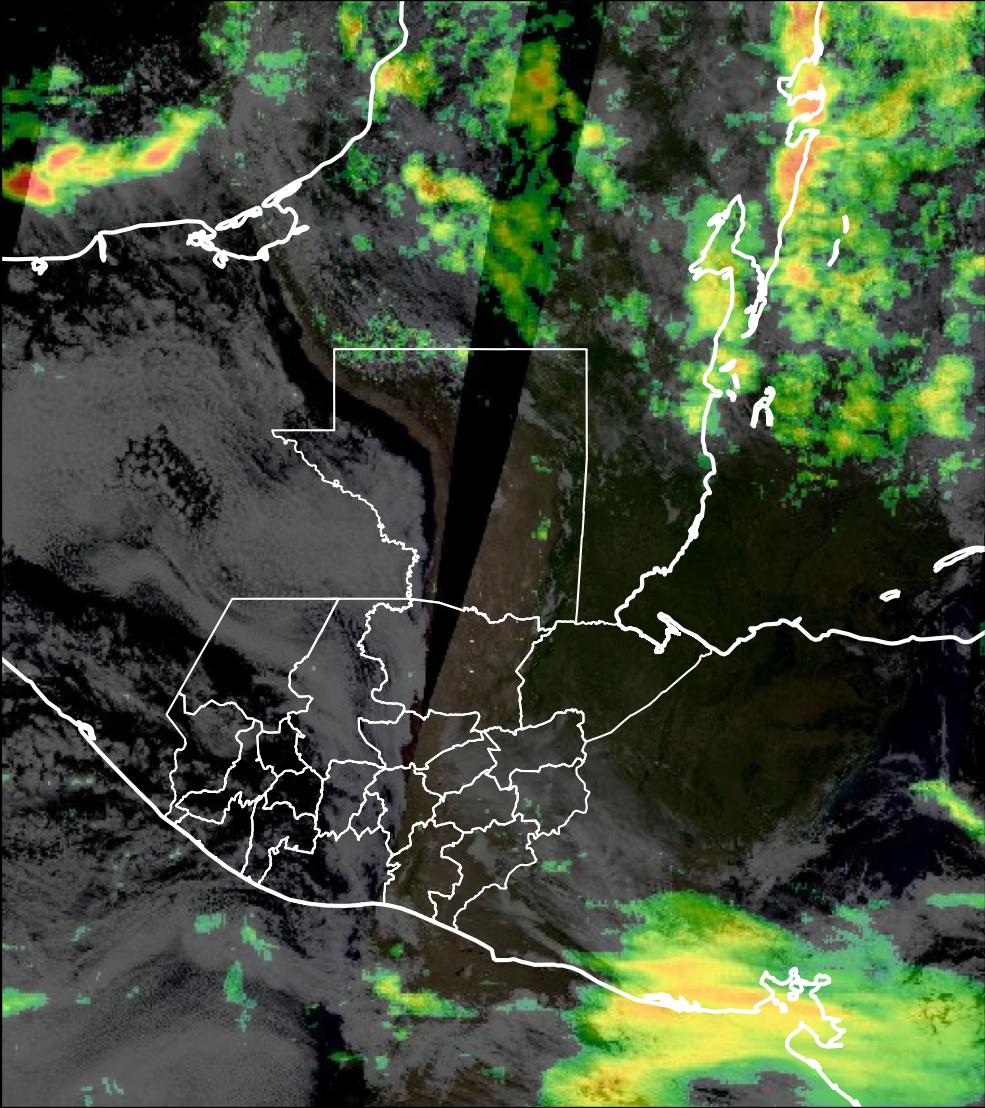precipitacion: (752, 126, 846, 214), (1, 154, 67, 210)
